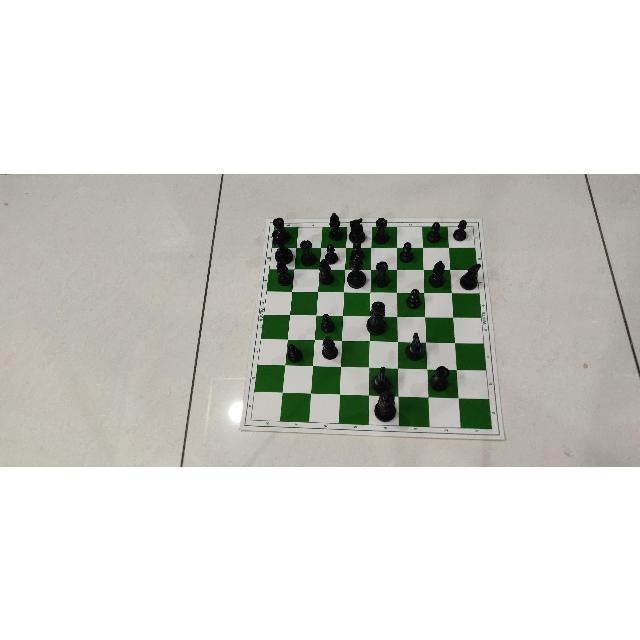black-bishop: (326, 210, 343, 241), (428, 259, 446, 287), (272, 260, 292, 285), (328, 211, 344, 241), (276, 259, 294, 285), (431, 260, 447, 289), (318, 257, 336, 282), (317, 258, 334, 284), (321, 335, 339, 359), (319, 337, 337, 357)
black-king: (373, 391, 399, 422), (370, 298, 391, 336), (365, 300, 387, 336), (374, 390, 396, 422)
black-knight: (404, 333, 428, 361), (370, 364, 393, 392), (459, 262, 482, 290), (346, 215, 367, 245), (370, 365, 391, 393), (405, 332, 425, 360), (461, 262, 481, 288), (348, 216, 365, 243)
black-pawn: (284, 341, 304, 363), (428, 220, 446, 243), (406, 286, 424, 309), (323, 242, 341, 264), (319, 311, 337, 332), (455, 215, 470, 240), (350, 240, 367, 260), (286, 342, 303, 362), (400, 240, 416, 261), (453, 218, 467, 241), (324, 242, 339, 263), (399, 241, 414, 262), (405, 287, 420, 308), (427, 221, 441, 243), (319, 313, 334, 333), (349, 240, 364, 260)
black-queen: (268, 230, 295, 264), (271, 228, 293, 264), (347, 251, 367, 288), (346, 254, 367, 288)
black-rook: (270, 215, 290, 245), (431, 364, 451, 392), (428, 365, 449, 391), (374, 260, 394, 286), (299, 238, 317, 266), (372, 216, 390, 244), (297, 238, 315, 266), (374, 215, 392, 242), (272, 216, 290, 242), (372, 260, 390, 286)
